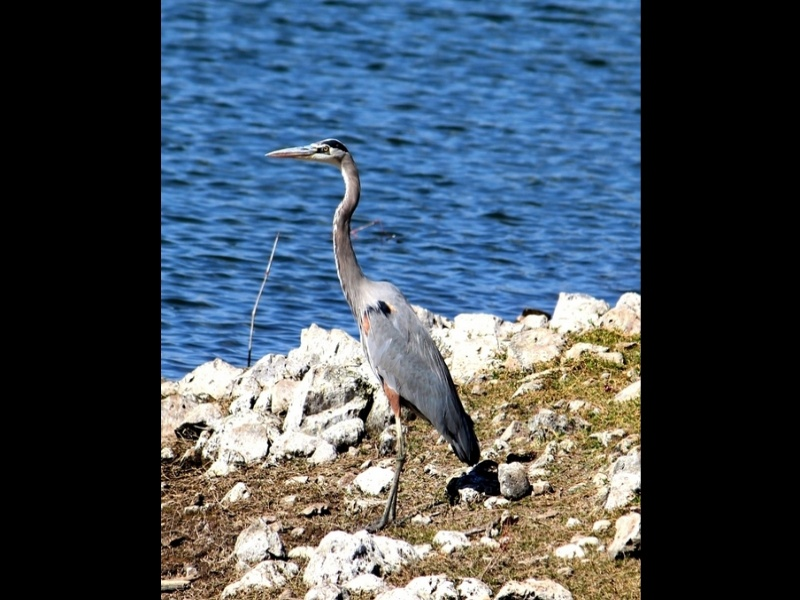heron: (263, 135, 482, 533)
